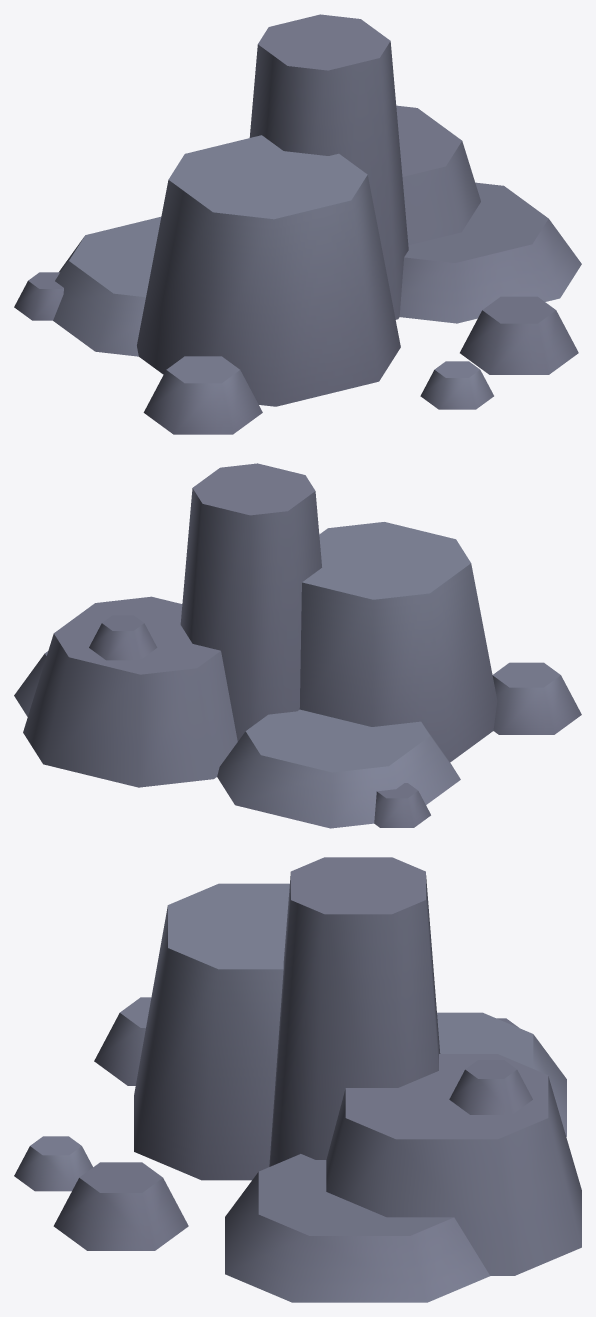
The model's file is stones.008_lev5.glb.
The picture shows the model from 3 angles, top to bottom: view 1: azimuth 30°, elevation 25°; view 2: azimuth 150°, elevation 25°; view 3: azimuth 270°, elevation 25°; orthographic projection. The views are drawn at different scales.
Visible parts, largest first — view 1: stones.008_lev5; view 2: stones.008_lev5; view 3: stones.008_lev5.
Boxes of the visible parts, x1,y1,x2,y2 form: stones.008_lev5: [14, 14, 581, 434]; stones.008_lev5: [14, 463, 581, 828]; stones.008_lev5: [14, 857, 581, 1302].
Size of the model in its own units: 3.57 by 1.82 by 3.22.
Materials: 1 (1 with a texture image).
